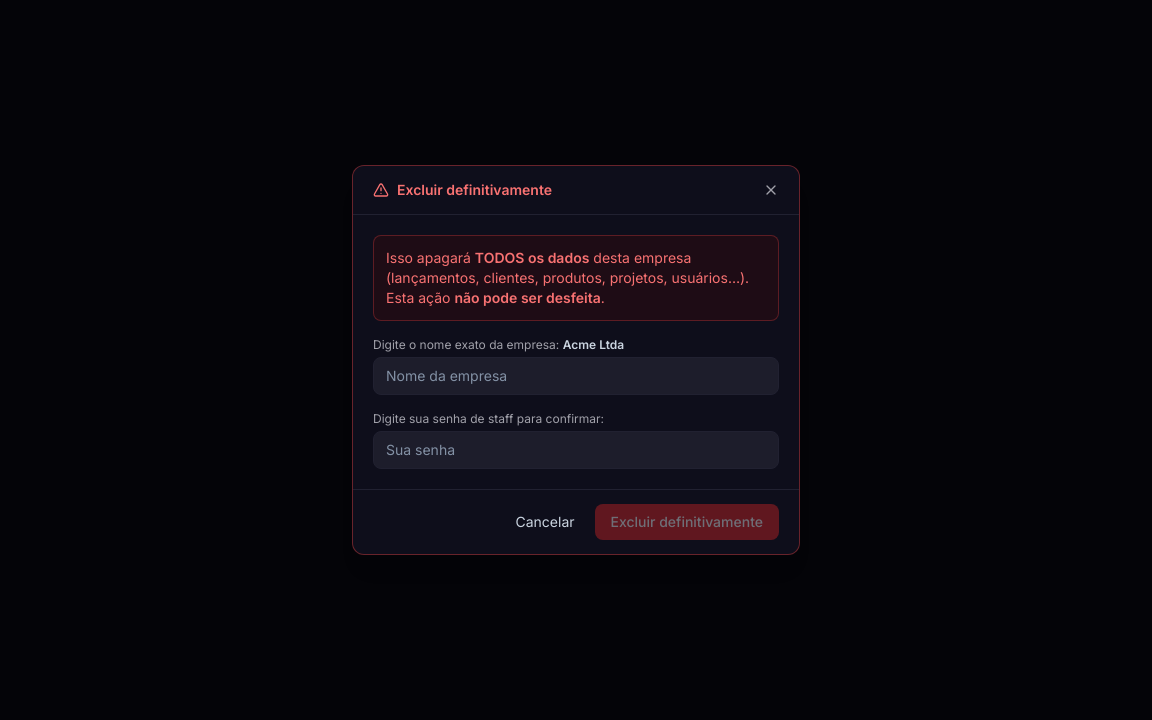
Scenario: ExcluirEmpresaModal › botão desabilitado até nome exato + senha
Expected: the button "Excluir definitivamente" is disabled, [594,504,779,540]
Type "Acme errado" into the field with placeholder "Nome da empresa" at (576, 376), box [373,357,779,395]
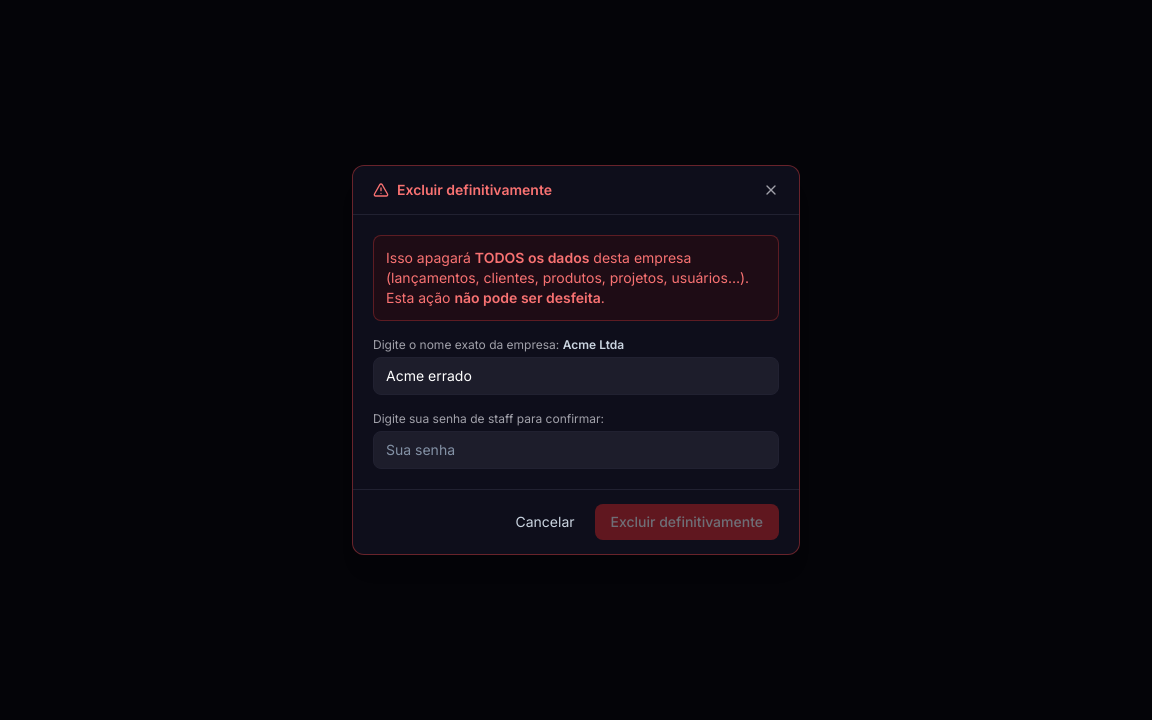
Type "x" into the password field with placeholder "Sua senha" at (576, 450), box [373,431,779,469]
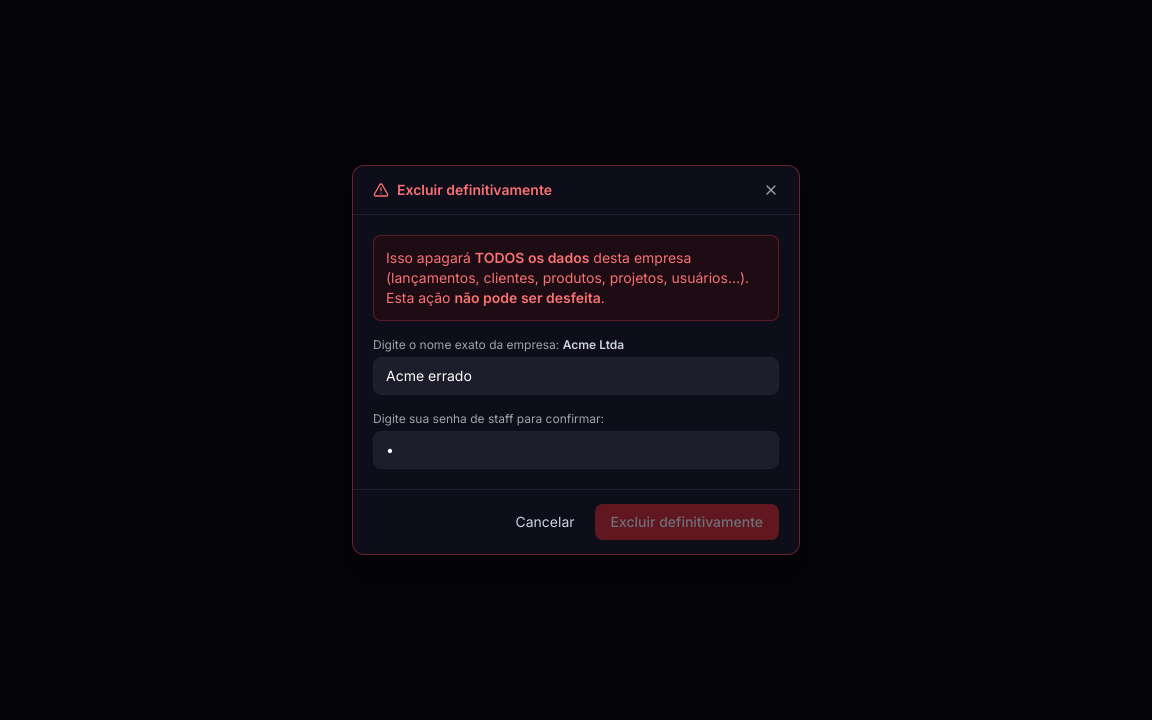
Expected: the button "Excluir definitivamente" is disabled, [594,504,779,540]
Replace the text in the field with placeholder "Nome da empresa" with "Acme Ltda" at (576, 376), box [373,357,779,395]
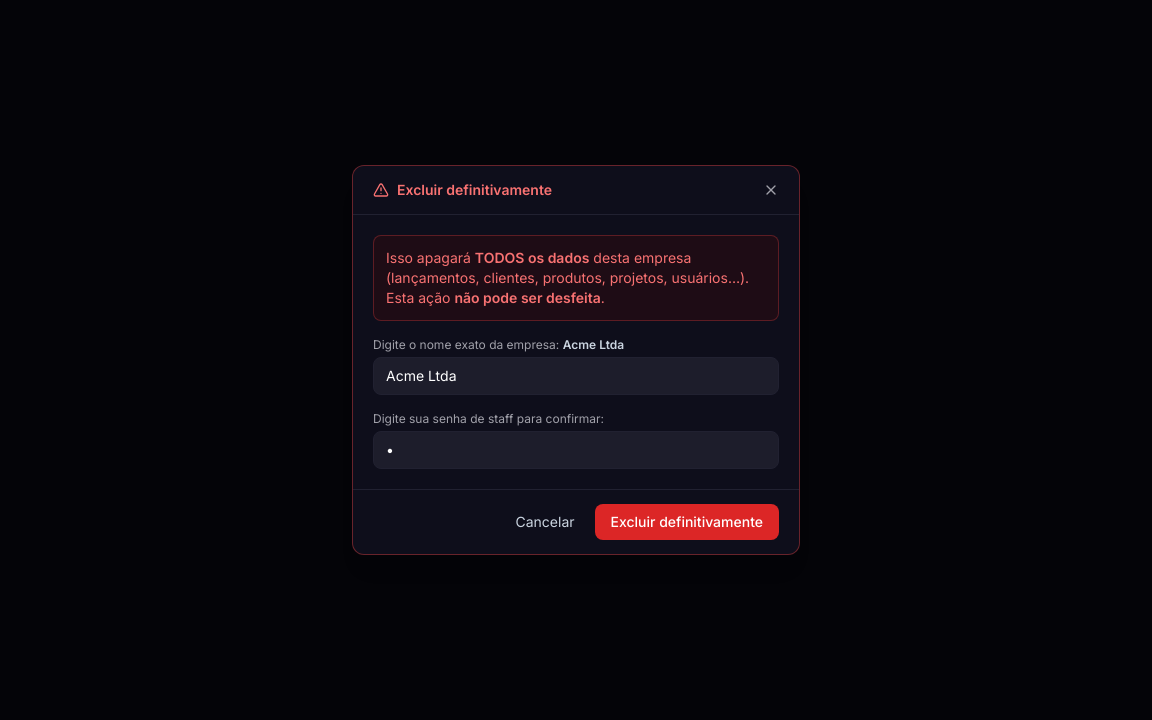
Result: the button "Excluir definitivamente" is enabled at [594,504,779,540]
